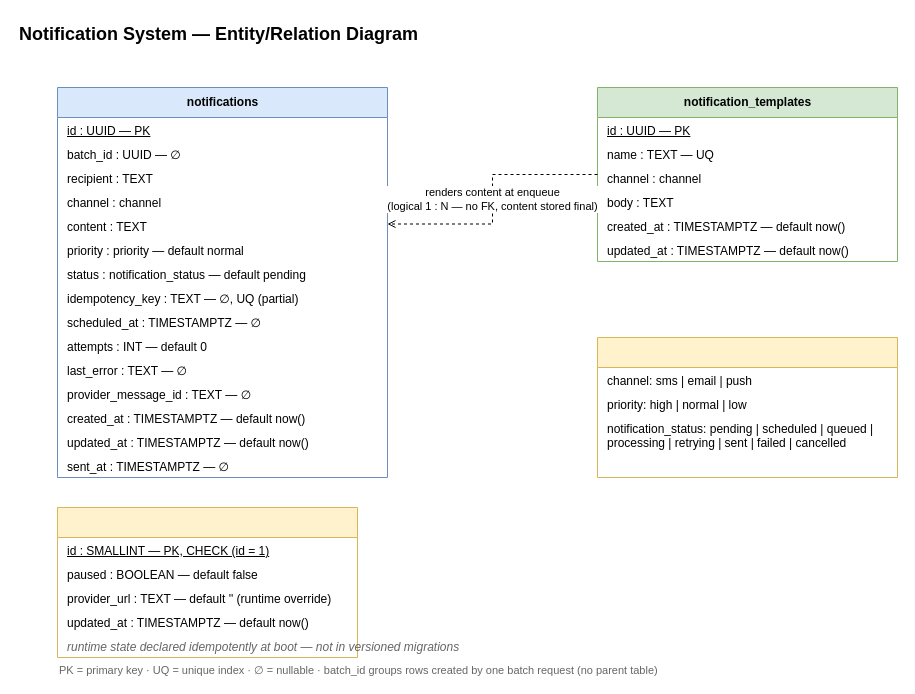
Image size: 915x694. Some labels were removed from this diagram. The shapes that lost their labels are listed below. From the top down, each one's box as (x1, y1, x2, y2) in pixels, then its label:
(596, 336, 898, 478): ENUM types
(56, 506, 358, 658): worker_control (boot-declared)
